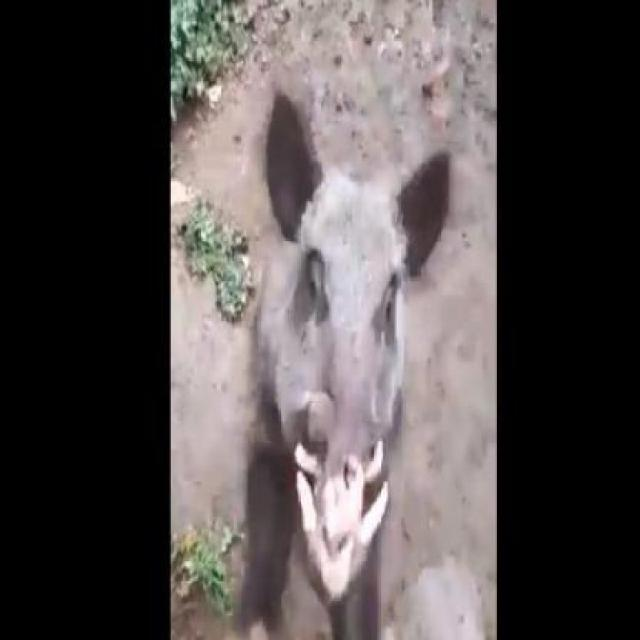wildboar: (228, 81, 454, 640)
